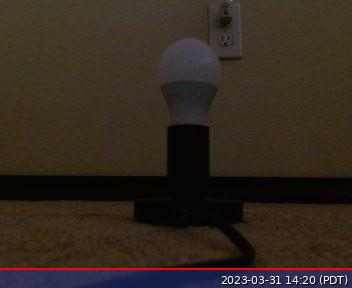Fan: (158, 37, 223, 106)
